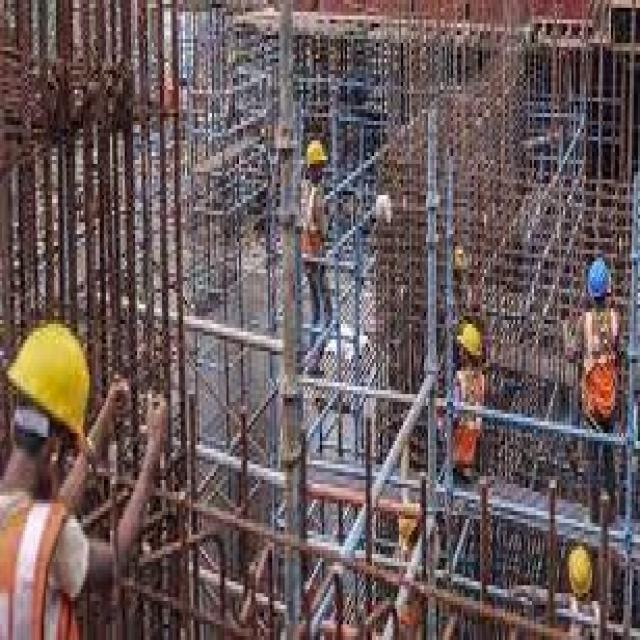Reflective-Jacket: (0, 476, 96, 640), (576, 300, 626, 426), (441, 363, 488, 484), (297, 176, 328, 262)
Safety-Helmet: (0, 304, 106, 468), (566, 535, 596, 605), (451, 312, 488, 367), (584, 250, 615, 304), (302, 132, 331, 176)
